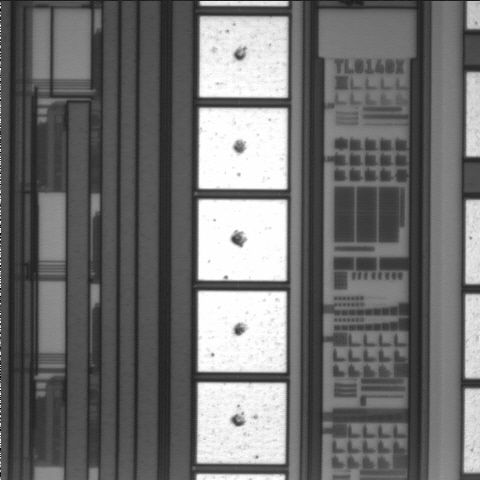pad: (199, 16, 288, 98), (198, 199, 287, 281), (198, 108, 288, 189), (198, 291, 287, 372), (197, 383, 286, 464)
